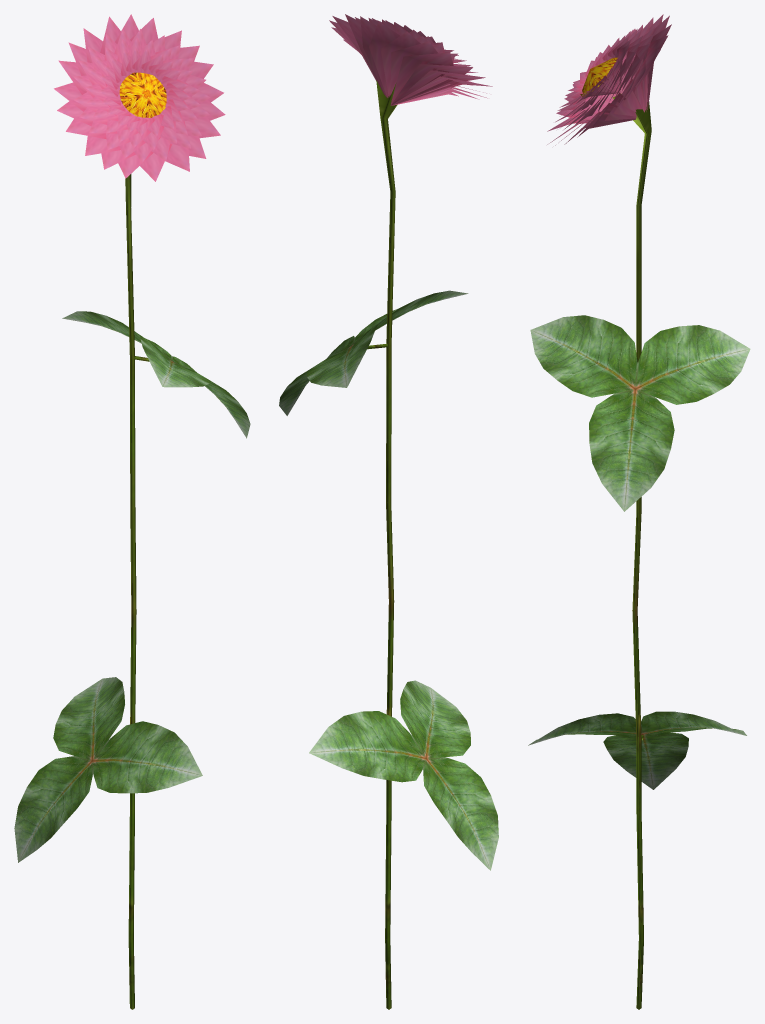
File: Dahlia.FBX
3 views of the same model, side by side, from view 1: azimuth 30°, elevation 25°; view 2: azimuth 150°, elevation 25°; view 3: azimuth 270°, elevation 25° (orthographic). The views are drawn at different scales.
Parts seen in each view (by area): view 1: Dahlia; view 2: Dahlia; view 3: Dahlia.
Boxes of the visible parts, x1,y1,x2,y2 form: Dahlia: (14,14,250,1009); Dahlia: (279,14,498,1009); Dahlia: (528,14,750,1009).
Bounding box in the file's own units: 16.23 × 71.15 × 14.66.
1 material, 1 textured.
